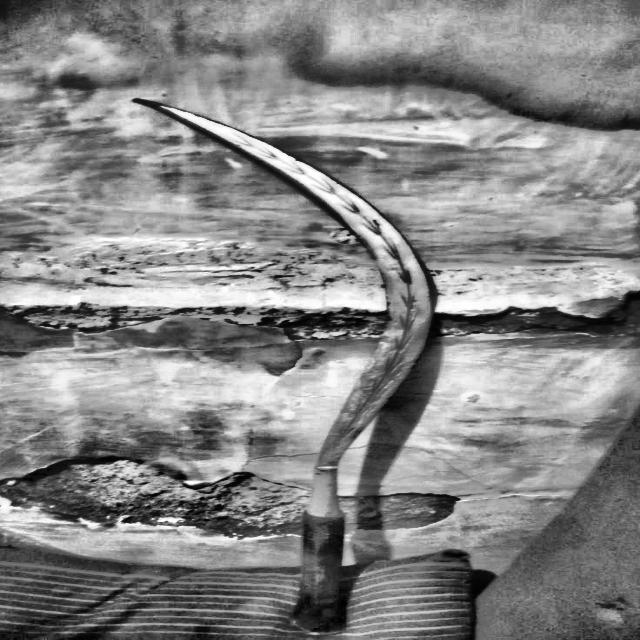celurit: (104, 92, 451, 640)
